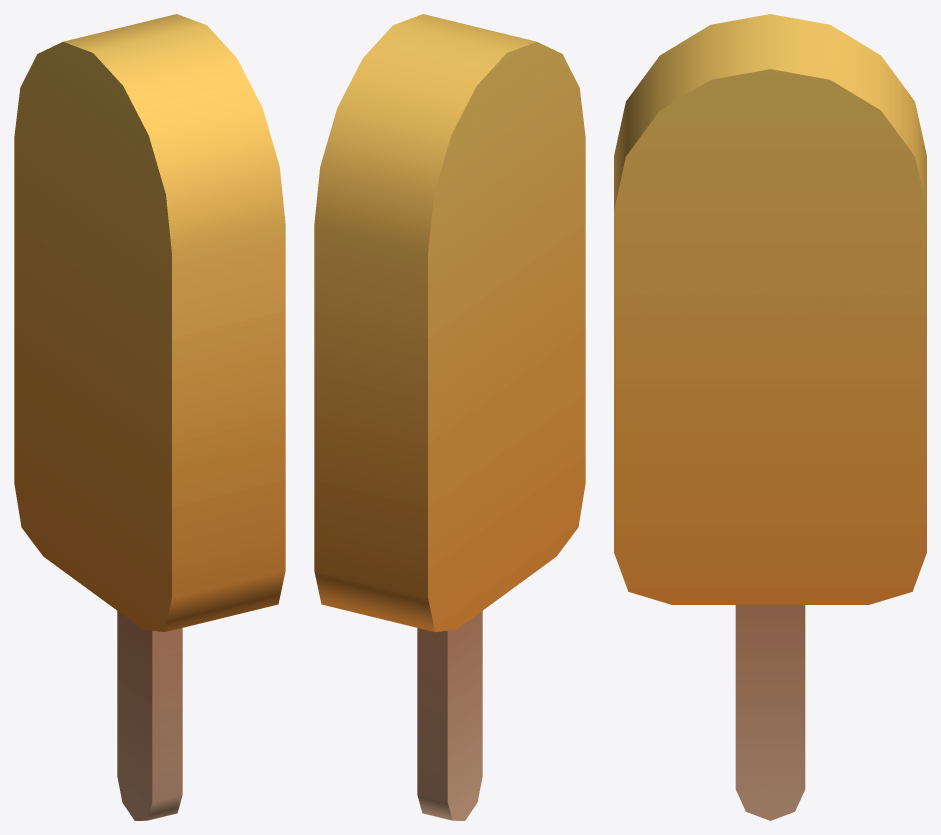
File: popsicle.glb
The picture shows the model from 3 angles, left to right: view 1: azimuth 30°, elevation 25°; view 2: azimuth 150°, elevation 25°; view 3: azimuth 270°, elevation 25°; orthographic projection.
Parts seen in each view (by area): view 1: popsicle; view 2: popsicle; view 3: popsicle.
Boxes of the visible parts, x1,y1,x2,y2 form: popsicle: (14, 14, 285, 820); popsicle: (314, 14, 585, 820); popsicle: (614, 14, 926, 820).
Size of the model in its own units: 0.075 by 0.49 by 0.18.
1 material, 1 textured.
